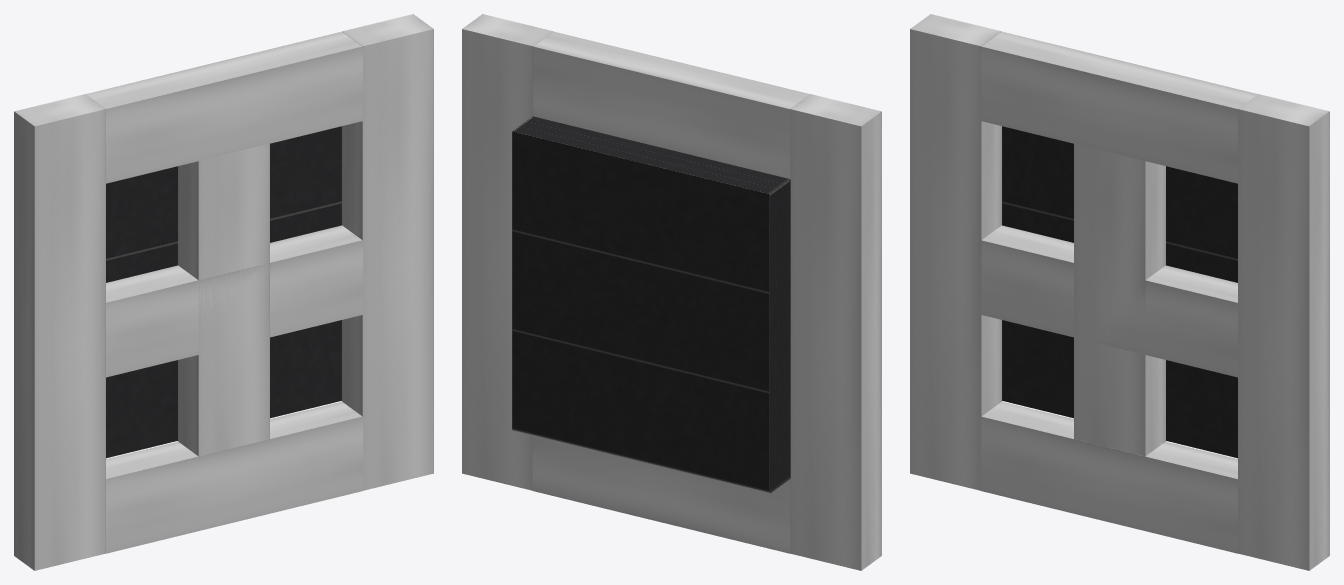
File: JWCargoPallet.FBX
3 renders of one model, left to right at view 1: azimuth 30°, elevation 25°; view 2: azimuth 150°, elevation 25°; view 3: azimuth 330°, elevation 25°, orthographic.
Visible parts, largest first — view 1: Box079, Box078, Box084, Box083, Box080, Box081, Box082; view 2: Box084, Box079, Box078, Box080, Box081; view 3: Box078, Box079, Box084, Box080, Box083, Box081, Box082.
Boxes of the visible parts, left/top/right/bottom form: Box079: left=14, top=94, right=105, bottom=570; Box078: left=342, top=14, right=433, bottom=490; Box084: left=106, top=126, right=341, bottom=458; Box083: left=178, top=143, right=269, bottom=456; Box080: left=86, top=31, right=363, bottom=183; Box081: left=106, top=401, right=363, bottom=553; Box082: left=105, top=225, right=363, bottom=377; Box084: left=512, top=116, right=790, bottom=493; Box079: left=790, top=94, right=881, bottom=570; Box078: left=462, top=14, right=553, bottom=490; Box080: left=532, top=31, right=809, bottom=178; Box081: left=532, top=436, right=789, bottom=553; Box078: left=1238, top=94, right=1329, bottom=570; Box079: left=910, top=14, right=1001, bottom=490; Box084: left=1002, top=126, right=1237, bottom=458; Box080: left=980, top=31, right=1257, bottom=183; Box083: left=1074, top=143, right=1165, bottom=456; Box081: left=980, top=401, right=1237, bottom=553; Box082: left=980, top=225, right=1238, bottom=377.
Size of what is drawn, in the model's own units: 0.2264 by 0.241 by 0.0405.
